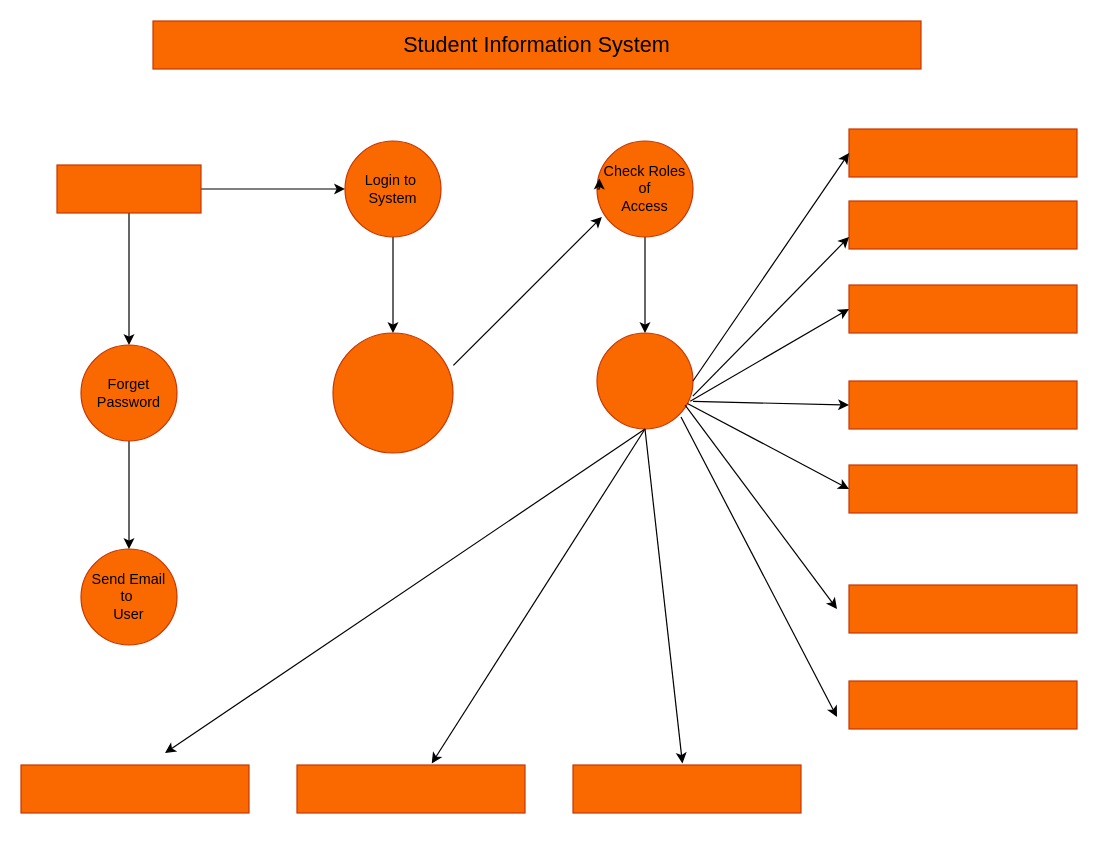
Some shapes in this 1098 by 844 pixel diagram are drawn without their labels. The box of each missing label's shape, as (x1, y1, x2, y2) in pixels:
Admin: (56, 164, 201, 213)
Check Credintials: (332, 332, 453, 453)
Manage Modules: (596, 332, 693, 429)
